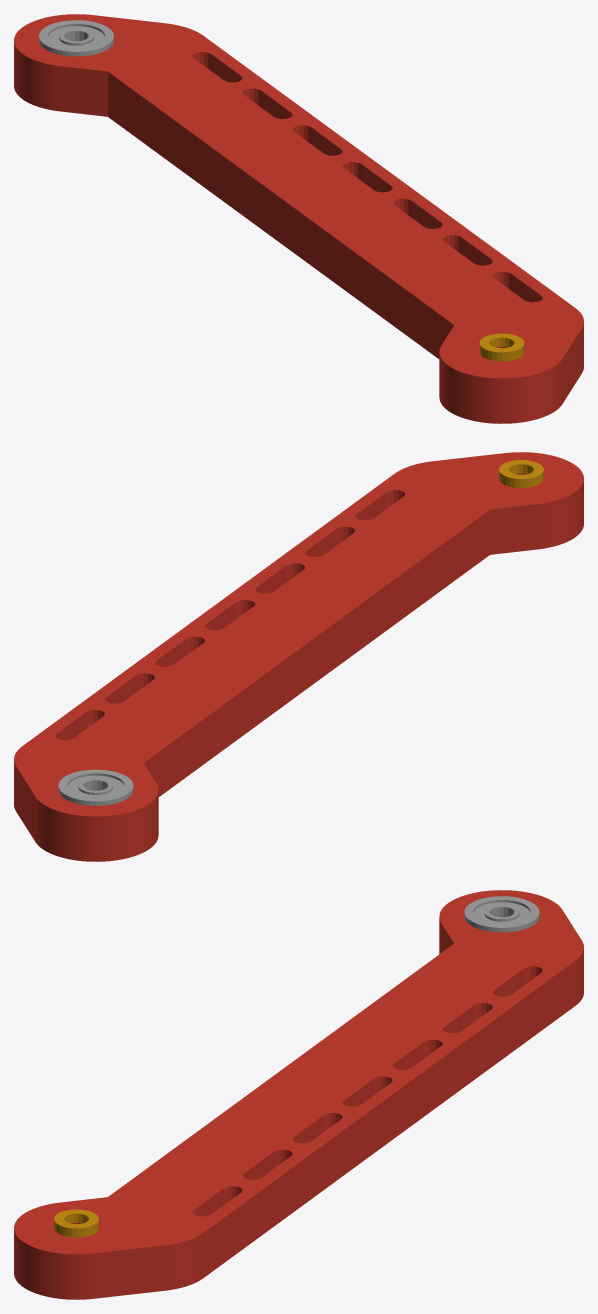
Rendered from parallel_end_link2.dae.
3 renders of one model, top to bottom at view 1: azimuth 30°, elevation 25°; view 2: azimuth 150°, elevation 25°; view 3: azimuth 330°, elevation 25°, orthographic.
Visible parts, largest first — view 1: node0, node1, node4; view 2: node0, node1, node4; view 3: node0, node1, node4.
Part boxes in pixels (<box>): node0: <box>14,14,583,423</box>; node1: <box>39,20,113,56</box>; node4: <box>479,333,524,356</box>; node0: <box>14,452,583,861</box>; node1: <box>58,769,133,805</box>; node4: <box>499,460,543,483</box>; node0: <box>14,890,583,1299</box>; node1: <box>464,896,539,932</box>; node4: <box>54,1209,98,1232</box>.
Bounding box in the file's own units: 0.0356 × 0.195 × 0.013.
